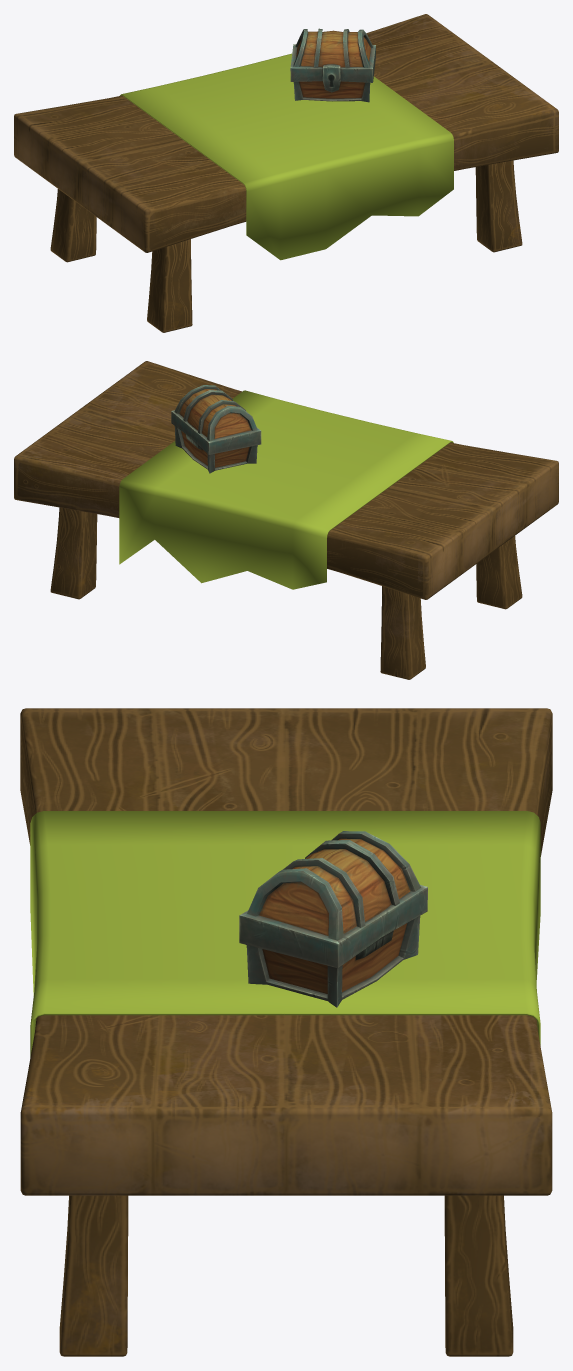
Rendered from checkTable.fbx.
The picture shows the model from 3 angles, top to bottom: view 1: azimuth 30°, elevation 25°; view 2: azimuth 150°, elevation 25°; view 3: azimuth 270°, elevation 25°; orthographic projection. The views are drawn at different scales.
Parts seen in each view (by area): view 1: checkTable, Box001; view 2: checkTable, Box001; view 3: checkTable, Box001.
Part boxes in pixels (x1=…): checkTable: x1=14, y1=14, x2=558, y2=332; Box001: x1=290, y1=28, x2=375, y2=102; checkTable: x1=14, y1=361, x2=558, y2=679; Box001: x1=171, y1=385, x2=261, y2=473; checkTable: x1=20, y1=708, x2=552, y2=1356; Box001: x1=239, y1=831, x2=427, y2=1007.
Size of the model in its own units: 0.4131 by 0.1856 by 0.2299.
